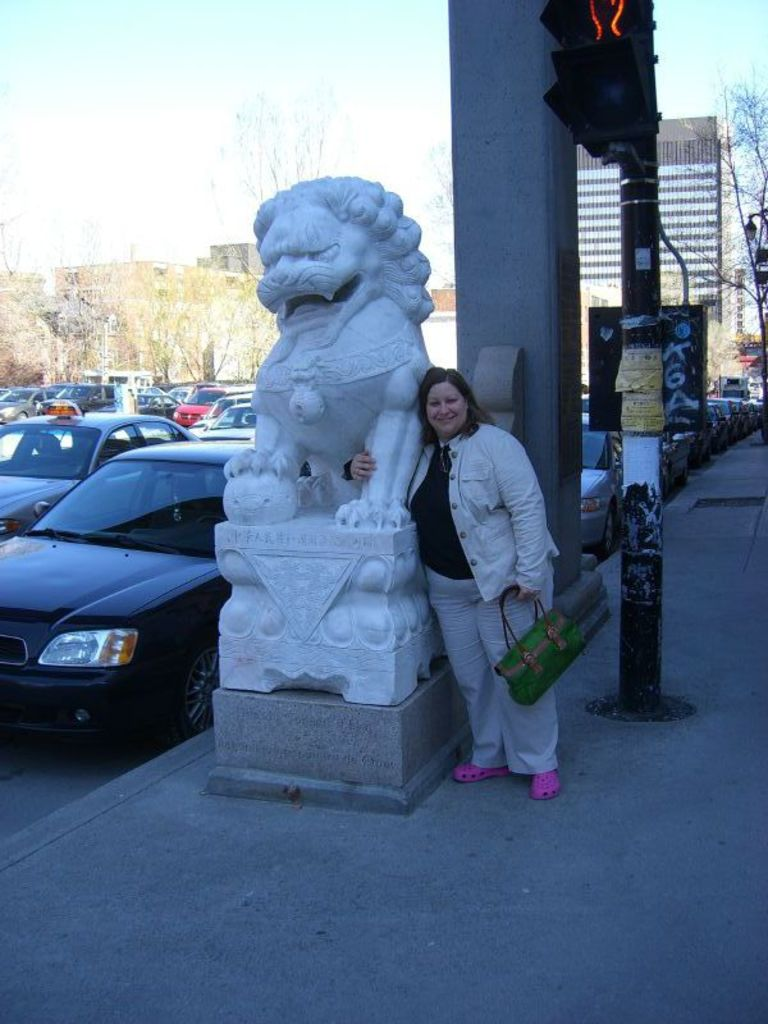Car: (3, 421, 254, 770), (0, 405, 192, 546), (37, 377, 116, 422), (165, 382, 241, 427)
